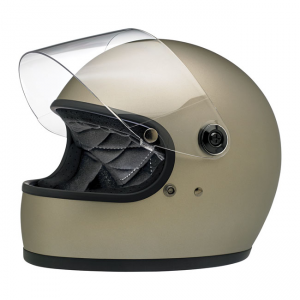with_helmet: (10, 25, 284, 275)
